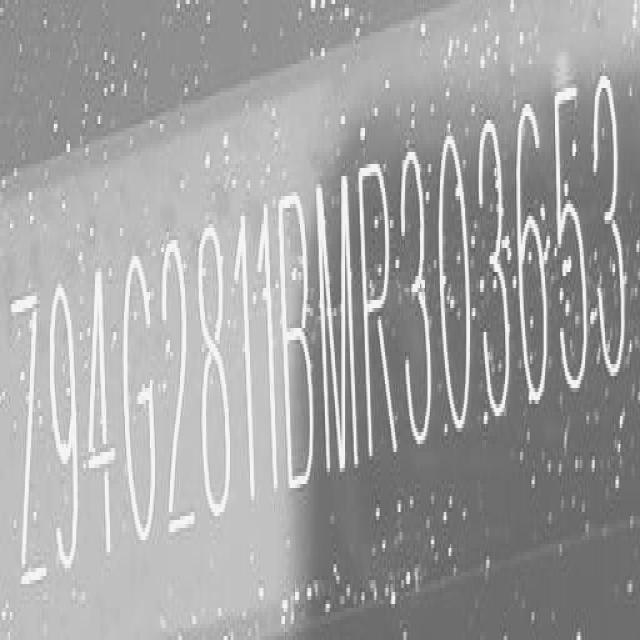0: (438, 121, 470, 444)
1: (231, 208, 257, 510), (257, 205, 280, 500)
2: (161, 230, 197, 540)
3: (398, 152, 434, 458), (593, 66, 624, 385), (478, 114, 509, 426)
4: (88, 266, 118, 560)
5: (556, 75, 587, 399)
6: (510, 104, 551, 402)
8: (200, 216, 230, 519)
9: (48, 284, 80, 575)
B: (278, 180, 316, 489)
G: (122, 249, 159, 547)
M: (316, 170, 356, 477)
R: (360, 155, 398, 467)
Z: (11, 292, 48, 584)
